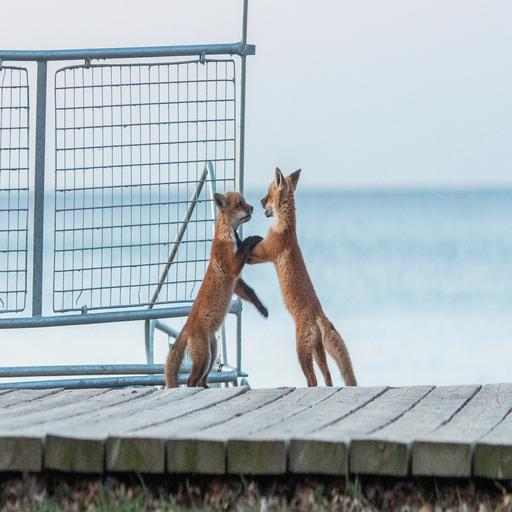Fox: (255, 164, 363, 395), (162, 188, 269, 390)
